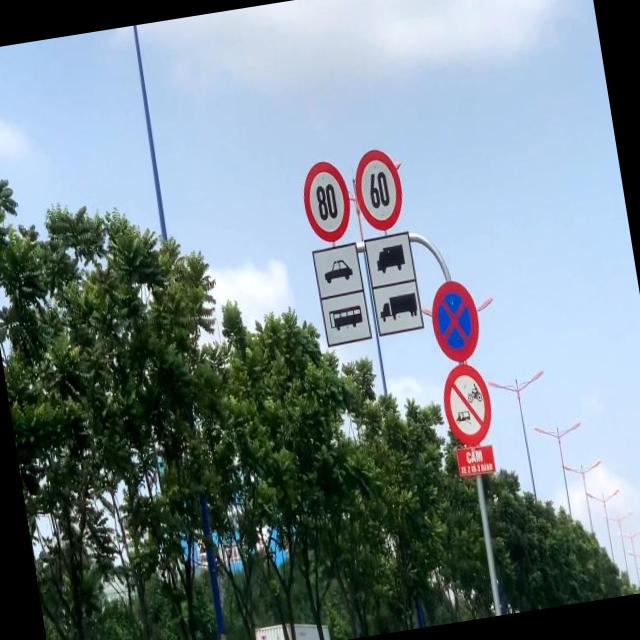P-104: (439, 360, 497, 452)
P-127: (298, 158, 356, 248), (351, 145, 407, 233)
P-130: (427, 278, 483, 364)
